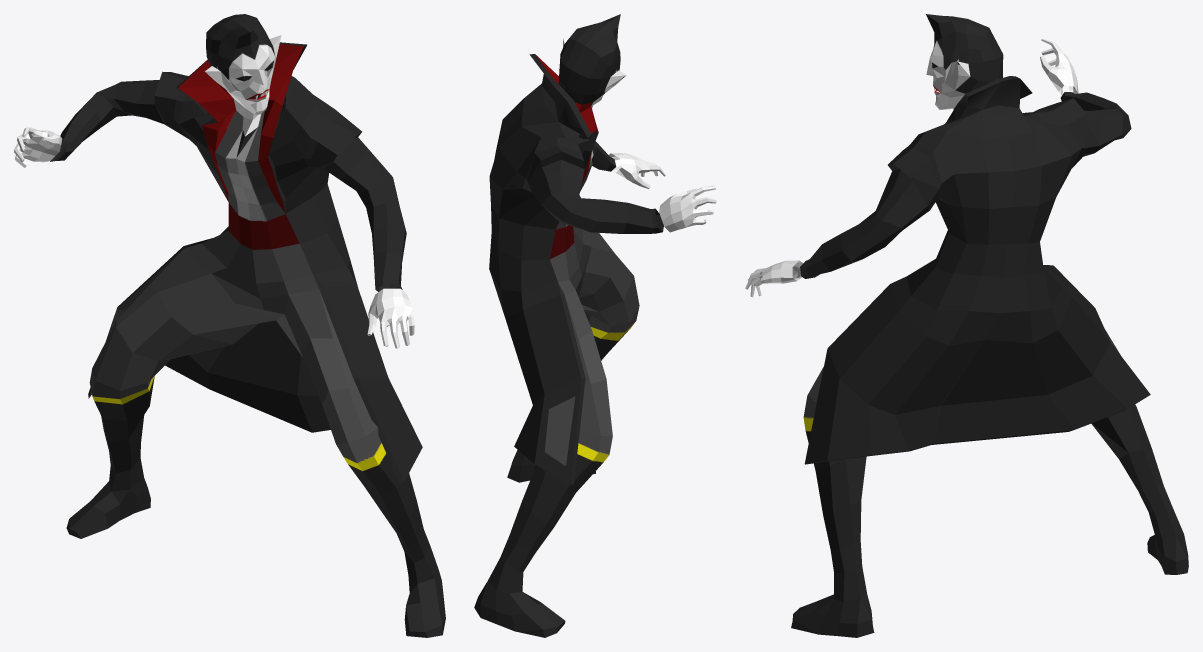
File: VampireAttack(6).obj
3 renders of one model, left to right at view 1: azimuth 30°, elevation 25°; view 2: azimuth 150°, elevation 25°; view 3: azimuth 270°, elevation 25°, orthographic. The views are drawn at different scales.
Parts seen in each view (by area): view 1: Plane002; view 2: Plane002; view 3: Plane002.
Part boxes in pixels (box(x1,y1,x2,y2)): Plane002: box(14, 14, 445, 637); Plane002: box(474, 14, 716, 637); Plane002: box(745, 14, 1188, 637).
Size of the model in its own units: 173 by 297 by 214.
